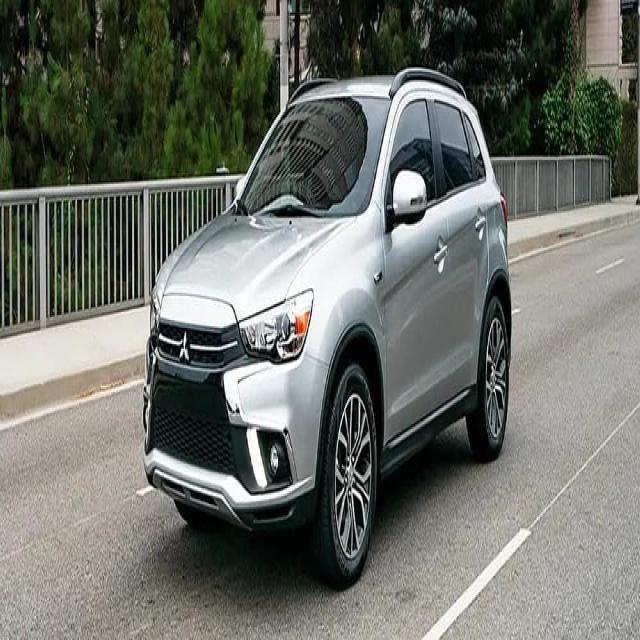light_vehicle: (142, 66, 513, 585)
